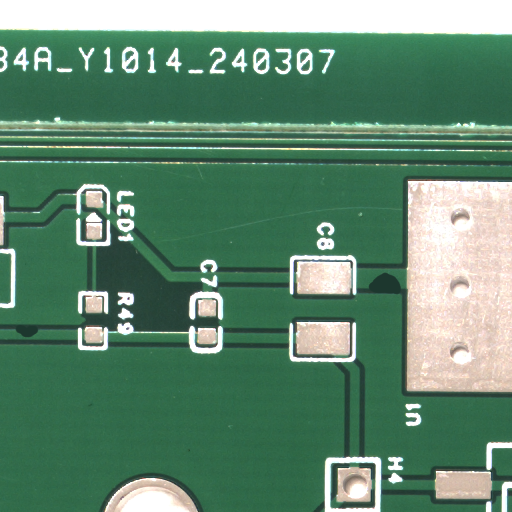Mouse_bite: (383, 280, 418, 301), (27, 329, 56, 347)
